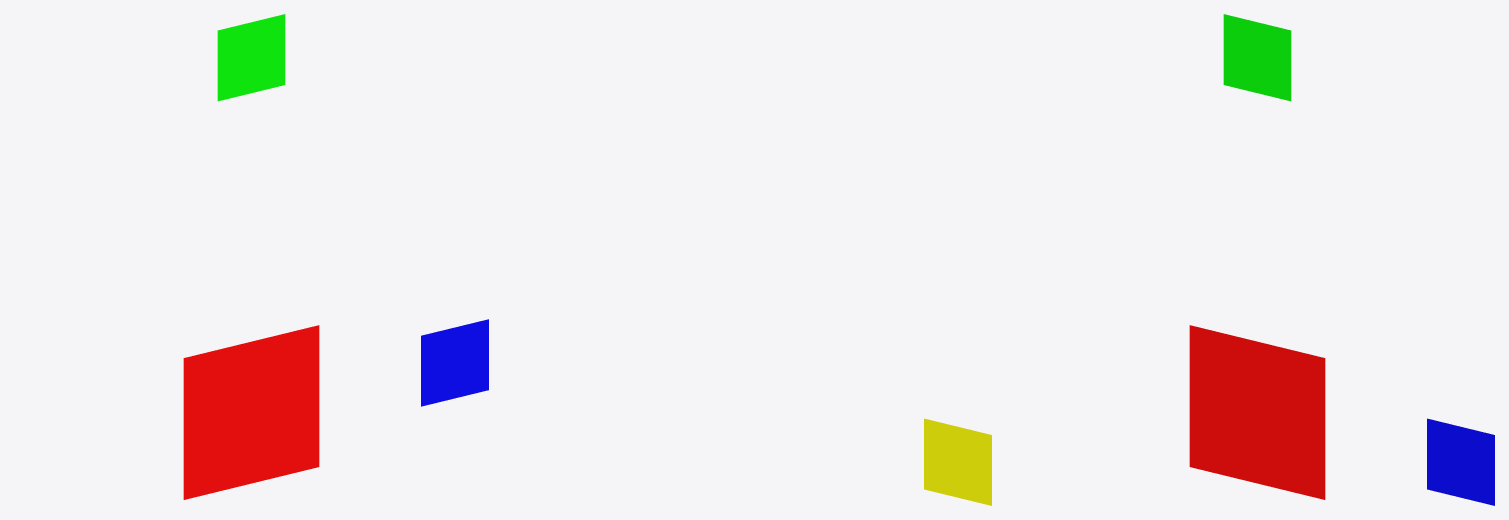
Rendered from marker.glb.
3 renders of one model, left to right at view 1: azimuth 30°, elevation 25°; view 2: azimuth 150°, elevation 25°; view 3: azimuth 330°, elevation 25°, orthographic.
Visible parts, largest first — view 1: red-origin, green-up, blue-right; view 2: yellow-left-back-facing; view 3: red-origin, green-up, blue-right.
Boxes of the visible parts, x1,y1,x2,y2 form: red-origin: [183, 325, 319, 499]; green-up: [217, 14, 285, 101]; blue-right: [421, 319, 488, 406]; yellow-left-back-facing: [924, 418, 991, 505]; red-origin: [1189, 325, 1325, 499]; green-up: [1223, 14, 1291, 101]; blue-right: [1427, 418, 1494, 505].
Bounding box in the file's own units: 1.4 × 1.3 × 0.
